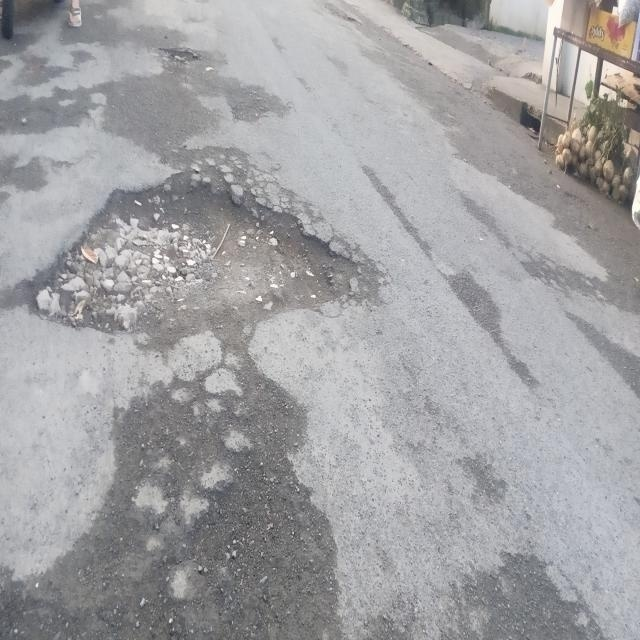pothole: (11, 149, 383, 414)
